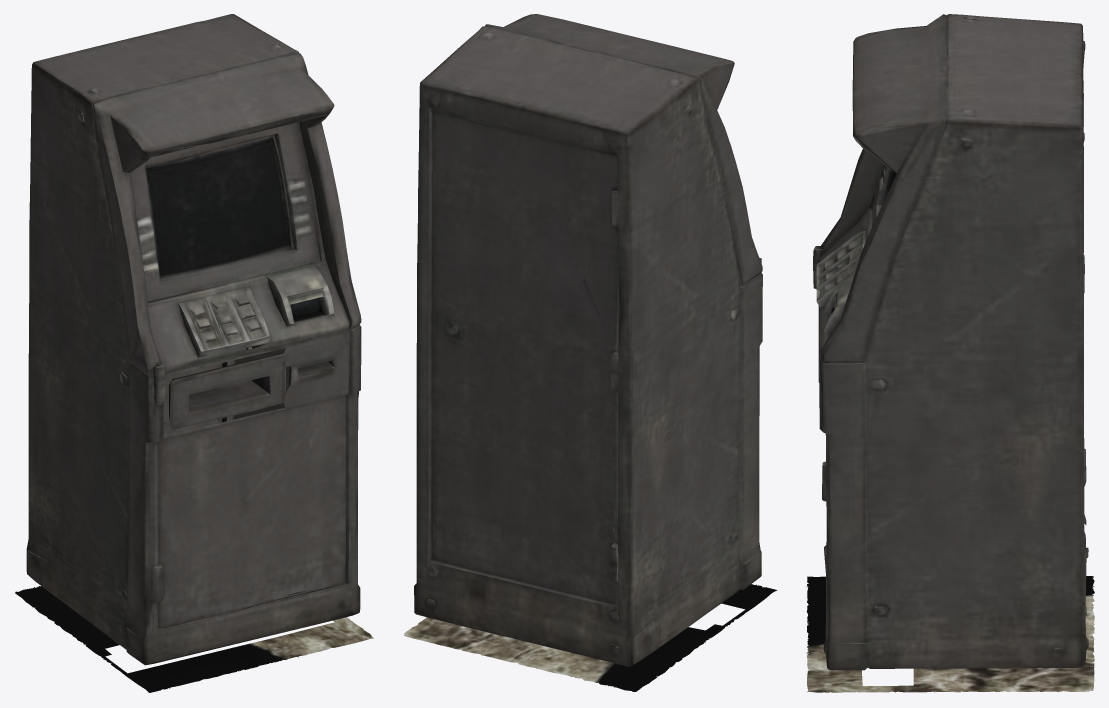
The model's file is p7-atm-kiosk.glb.
3 renders of one model, left to right at view 1: azimuth 30°, elevation 25°; view 2: azimuth 150°, elevation 25°; view 3: azimuth 270°, elevation 25°, orthographic. The views are drawn at different scales.
Parts seen in each view (by area): view 1: p7-atm-kiosk; view 2: p7-atm-kiosk; view 3: p7-atm-kiosk.
Boxes of the visible parts, x1,y1,x2,y2 form: p7-atm-kiosk: (15,14,373,692); p7-atm-kiosk: (404,14,777,691); p7-atm-kiosk: (806,14,1094,692).
Size of the model in its own units: 0.7 by 1.6 by 0.732.
1 material, 1 textured.
